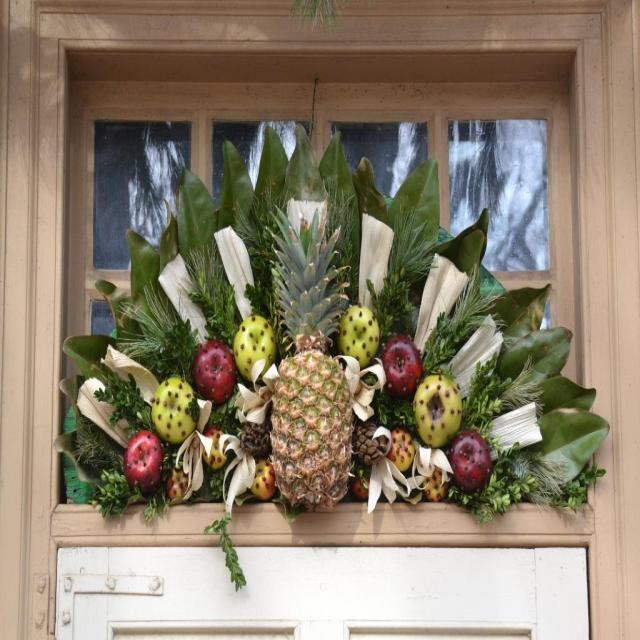Pineapple: (267, 192, 357, 510)
